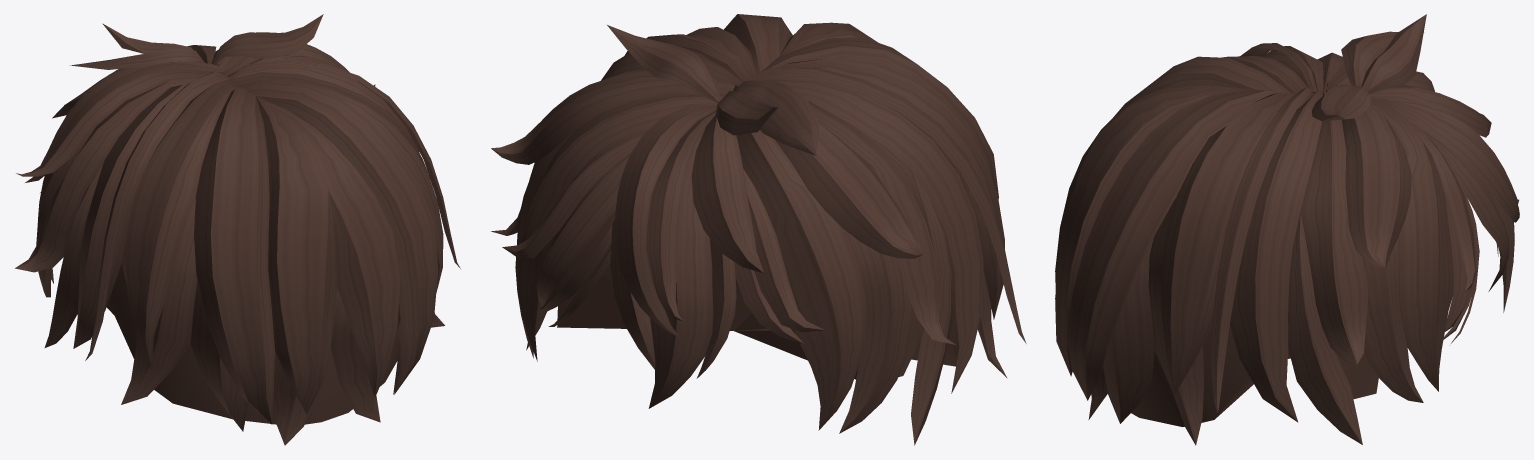
3 renders of one model, left to right at view 1: azimuth 30°, elevation 25°; view 2: azimuth 150°, elevation 25°; view 3: azimuth 270°, elevation 25°, orthographic. The views are drawn at different scales.
Visible parts, largest first — view 1: geometry_0; view 2: geometry_0; view 3: geometry_0.
Boxes of the visible parts, x1,y1,x2,y2 form: geometry_0: [15, 14, 460, 445]; geometry_0: [491, 14, 1026, 445]; geometry_0: [1055, 14, 1519, 445].
Bounding box in the file's own units: 1.65 × 1.28 × 1.58.
Materials: 1 (1 with a texture image).
